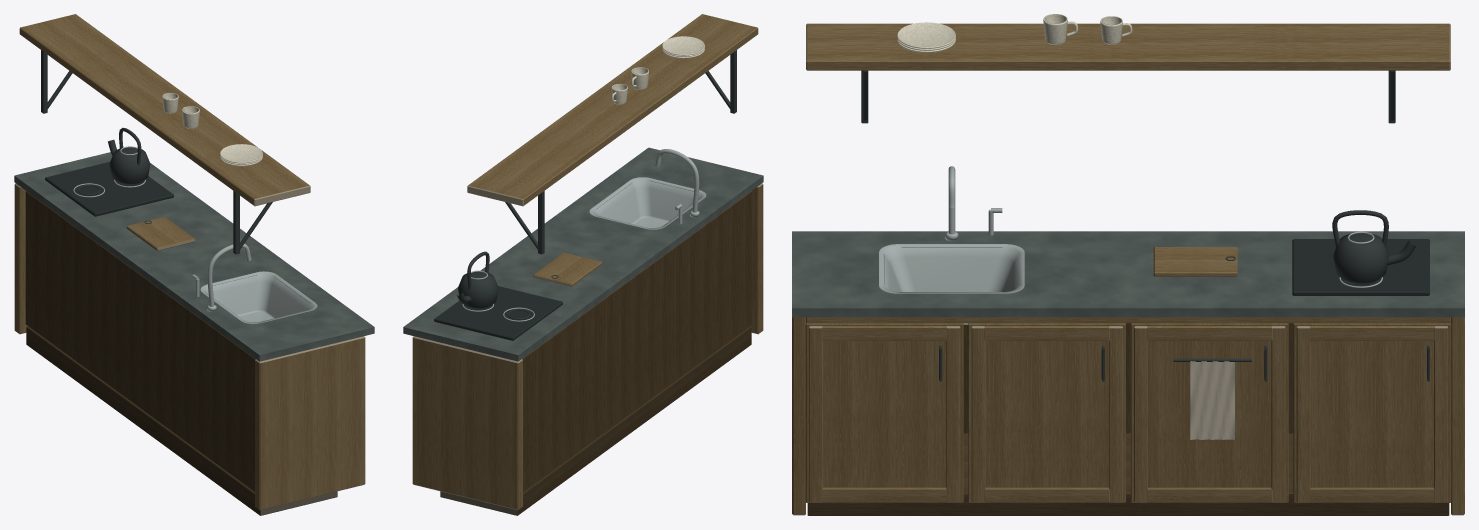
3 views of the same model, side by side, from view 1: azimuth 30°, elevation 25°; view 2: azimuth 150°, elevation 25°; view 3: azimuth 270°, elevation 25° (orthographic). The views are drawn at different scales.
Visible parts, largest first — view 1: Mesh_dark, Mesh_warm, Mesh_counter, Mesh_iron, Mesh_steel, Mesh_ceramic, Mesh_endgrain; view 2: Mesh_dark, Mesh_warm, Mesh_counter, Mesh_iron, Mesh_steel, Mesh_ceramic, Mesh_endgrain; view 3: Mesh_warm, Mesh_counter, Mesh_dark, Mesh_iron, Mesh_steel, Mesh_linen, Mesh_ceramic, Mesh_endgrain.
Boxes of the visible parts, box(x1,y1,x2,y2) form: Mesh_dark: box(25, 191, 336, 515); Mesh_warm: box(14, 14, 365, 509); Mesh_counter: box(14, 152, 374, 361); Mesh_iron: box(41, 50, 272, 254); Mesh_steel: box(73, 146, 317, 323); Mesh_ceramic: box(162, 92, 262, 166); Mesh_endgrain: box(15, 183, 365, 515); Mesh_dark: box(441, 191, 752, 515); Mesh_warm: box(412, 14, 763, 509); Mesh_counter: box(403, 147, 763, 361); Mesh_iron: box(434, 50, 736, 340); Mesh_steel: box(462, 149, 706, 321); Mesh_ceramic: box(611, 36, 704, 104); Mesh_endgrain: box(412, 183, 762, 515); Mesh_warm: box(792, 23, 1464, 514); Mesh_counter: box(792, 231, 1464, 317); Mesh_dark: box(807, 323, 1449, 515); Mesh_iron: box(861, 70, 1429, 381); Mesh_steel: box(879, 166, 1382, 324); Mesh_linen: box(1190, 361, 1234, 439); Mesh_ceramic: box(897, 14, 1132, 52); Mesh_endgrain: box(793, 24, 1463, 515).
Size of the model in its own units: 0.65 by 1.81 by 2.4.
8 materials, 6 textured.
